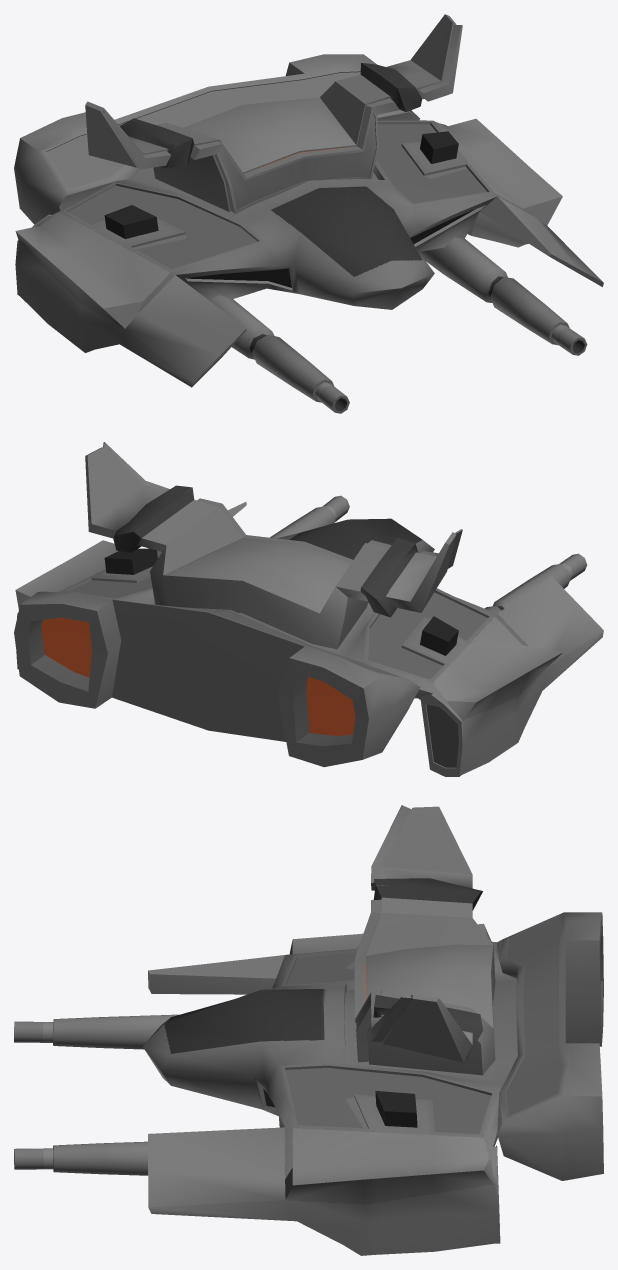
File: episode_77_-_spaceship.glb
3 views of the same model, one above another, from view 1: azimuth 30°, elevation 25°; view 2: azimuth 150°, elevation 25°; view 3: azimuth 270°, elevation 25° (orthographic). The views are drawn at different scales.
Parts seen in each view (by area): view 1: Spaceship_Material_0; view 2: Spaceship_Material_0; view 3: Spaceship_Material_0.
Part boxes in pixels (<box>): Spaceship_Material_0: <box>14,14,603,413</box>; Spaceship_Material_0: <box>14,442,603,776</box>; Spaceship_Material_0: <box>14,805,603,1255</box>.
Size of the model in its own units: 9.78 by 4.42 by 9.89.
Materials: 1 (1 with a texture image).
